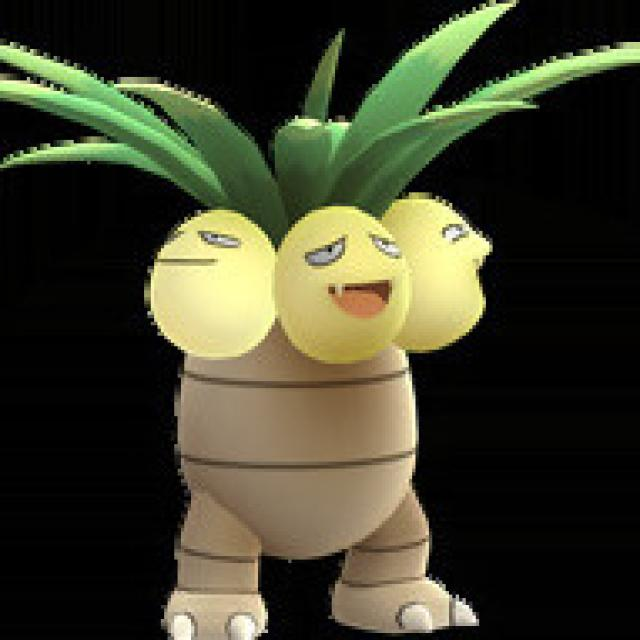Exeggutor: (139, 135, 497, 640)
